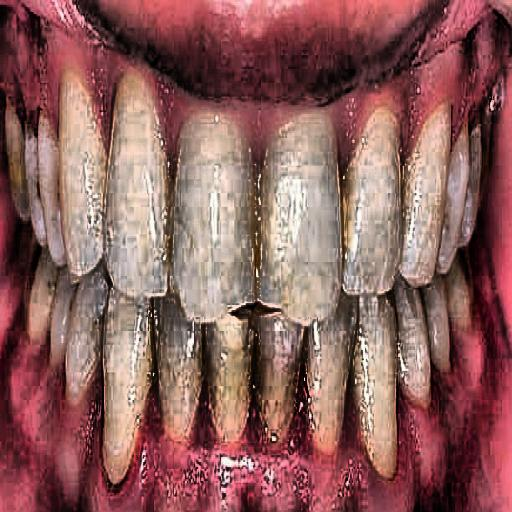Calculus: (24, 30, 486, 264), (45, 262, 477, 475)
